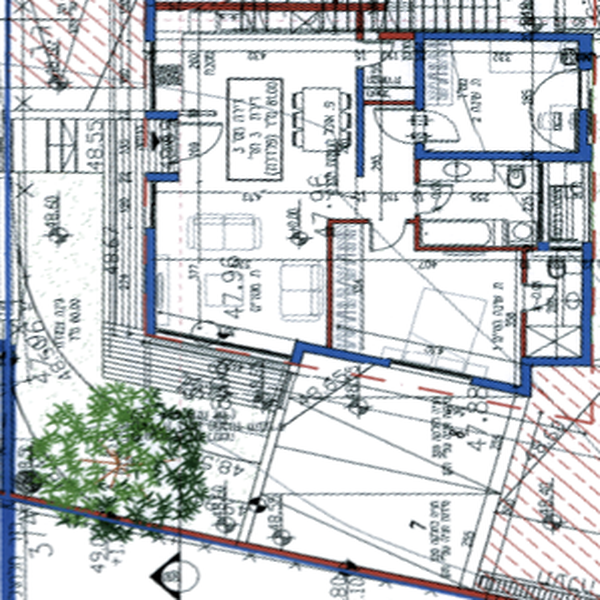room: (147, 6, 367, 191), (322, 212, 528, 400), (418, 27, 593, 162)
